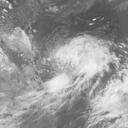cyclone: (44, 50, 98, 100)
